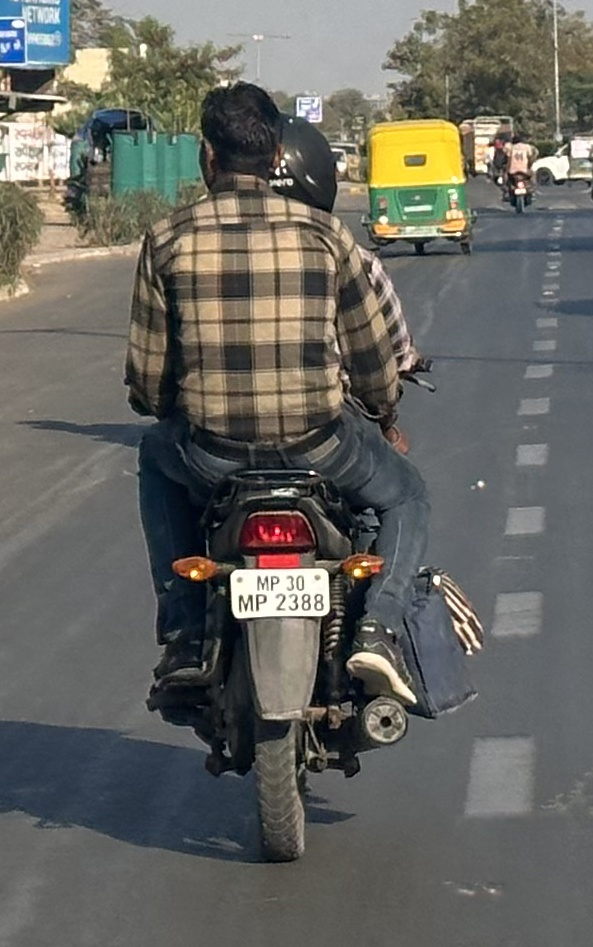BikeWithRider: (116, 77, 492, 866), (494, 128, 545, 215)
Helmet: (257, 103, 342, 223)
NoHelmet: (192, 81, 282, 194)
